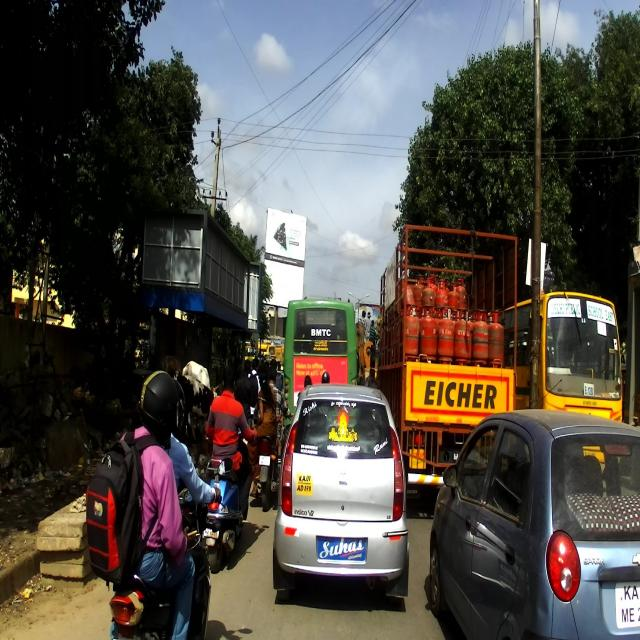Car_Chevrolet: (428, 411, 639, 637)
Car_TATA: (270, 385, 409, 607)
bus: (503, 290, 626, 422), (284, 298, 356, 425)
motorcycle_Hero: (110, 456, 233, 638), (255, 413, 291, 513)
scooter: (204, 432, 256, 571)
truck: (370, 223, 520, 504)
